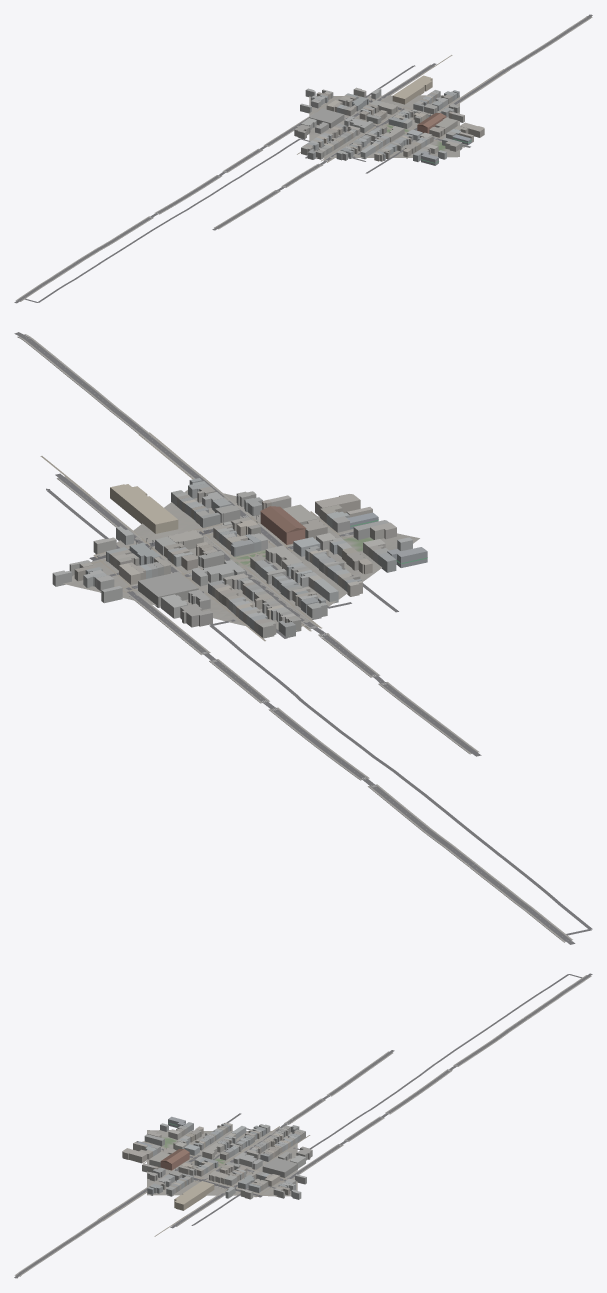
File: tile_-7_-6.glb
The picture shows the model from 3 angles, top to bottom: view 1: azimuth 90°, elevation 25°; view 2: azimuth 150°, elevation 25°; view 3: azimuth 270°, elevation 25°; orthographic projection. The views are drawn at different scales.
Parts seen in each view (by area): view 1: buildings, roads, sidewalks, terrain, paths; view 2: buildings, roads, terrain, sidewalks, paths; view 3: buildings, roads, sidewalks, terrain, paths.
Boxes of the visible parts, x1,y1,x2,y2 form: buildings: (294, 75, 484, 165); roads: (14, 14, 592, 303); sidewalks: (15, 16, 592, 301); terrain: (309, 95, 459, 158); paths: (297, 55, 509, 162); buildings: (52, 478, 427, 638); roads: (14, 332, 592, 944); terrain: (63, 490, 419, 635); sidewalks: (17, 334, 572, 942); paths: (40, 432, 353, 641); buildings: (122, 1116, 312, 1210); roads: (14, 973, 592, 1278); sidewalks: (14, 975, 591, 1276); terrain: (147, 1130, 297, 1196); paths: (97, 1126, 310, 1236).
Size of the model in its own units: 1196 by 19.78 by 985.
